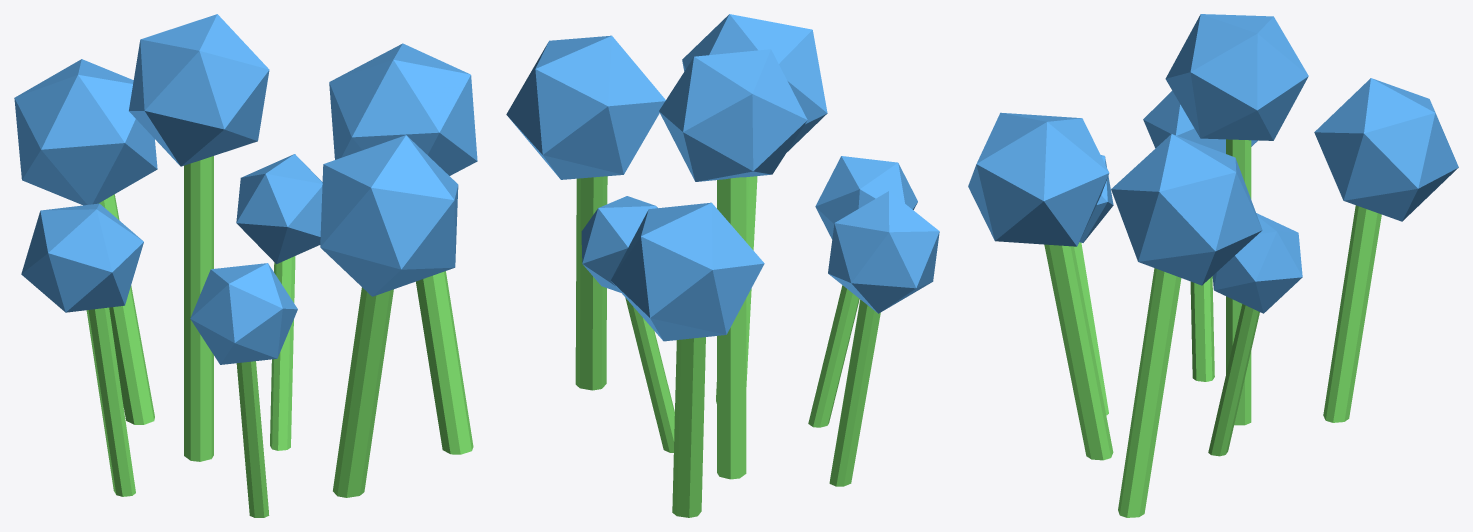
File: Flower 4.fbx
3 views of the same model, side by side, from view 1: azimuth 30°, elevation 25°; view 2: azimuth 150°, elevation 25°; view 3: azimuth 270°, elevation 25° (orthographic). The views are drawn at different scales.
Visible parts, largest first — view 1: Flower 4; view 2: Flower 4; view 3: Flower 4.
Part boxes in pixels (x1=…): Flower 4: x1=14, y1=14, x2=477, y2=517; Flower 4: x1=506, y1=14, x2=939, y2=517; Flower 4: x1=968, y1=14, x2=1458, y2=517.
Bounding box in the file's own units: 104 × 99.2 × 110.
